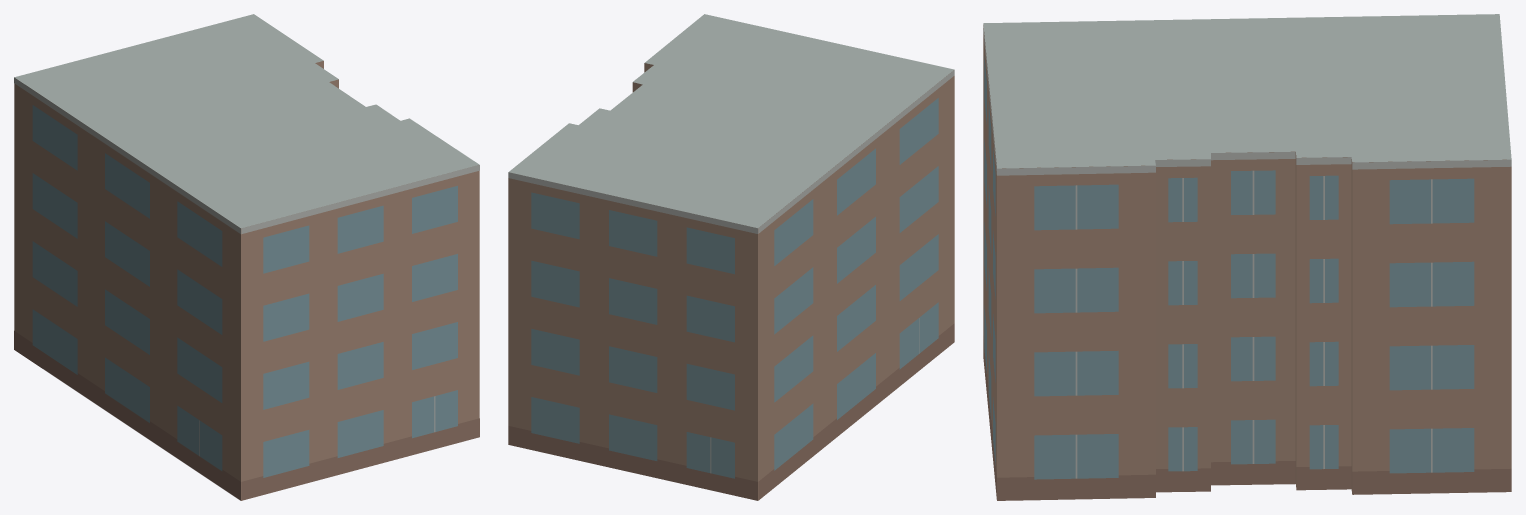
The model's file is survey-upis-32673286.glb.
3 views of the same model, side by side, from view 1: azimuth 30°, elevation 25°; view 2: azimuth 150°, elevation 25°; view 3: azimuth 270°, elevation 25° (orthographic). The views are drawn at different scales.
Parts seen in each view (by area): view 1: survey-upis-32673286.tmp; view 2: survey-upis-32673286.tmp; view 3: survey-upis-32673286.tmp.
Boxes of the visible parts, <box> form: survey-upis-32673286.tmp: <box>14,14,479,500</box>; survey-upis-32673286.tmp: <box>508,14,954,500</box>; survey-upis-32673286.tmp: <box>983,14,1511,500</box>.
Size of the model in its own units: 11.28 by 11.3 by 16.29.
